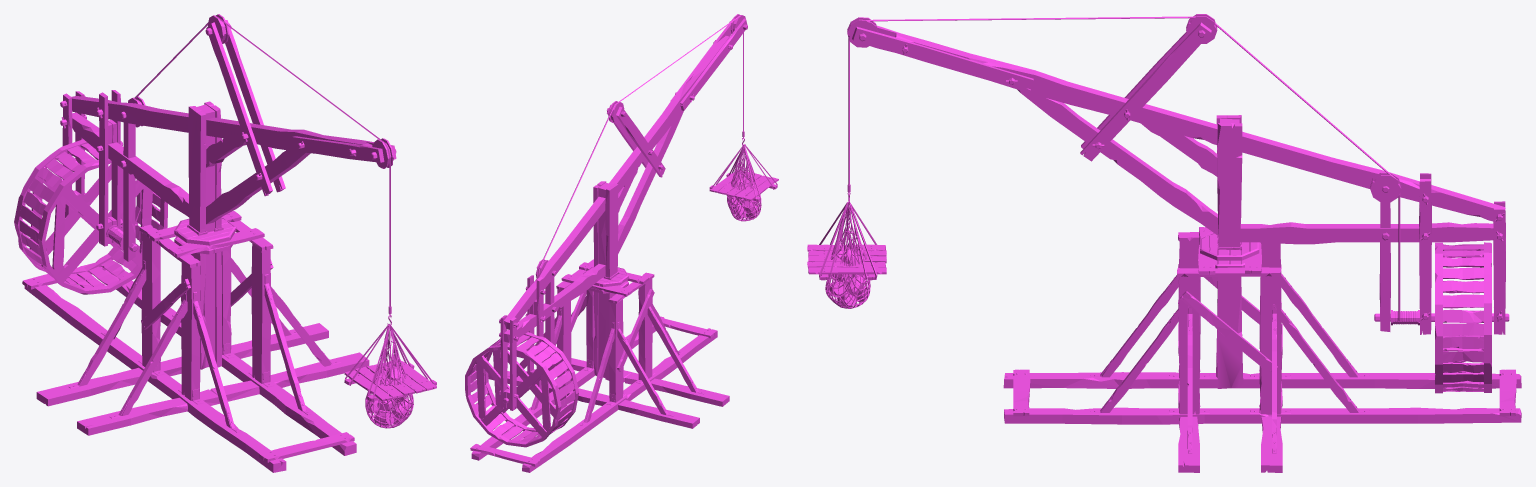
Rendered from SM_Crane_Big_Fantasy.fbx.
The picture shows the model from 3 angles, left to right: view 1: azimuth 30°, elevation 25°; view 2: azimuth 150°, elevation 25°; view 3: azimuth 270°, elevation 25°; orthographic projection. The views are drawn at different scales.
Visible parts, largest first — view 1: SM_Crane_Big_Fantasy_Base, SM_Crane_Big_Fantasy_Arm, SM_Crane_Big_Fantasy_Wheel_Big, SM_Crane_Big_Fantasy_Cargo, SM_Crane_Big_Fantasy_Nett, SM_Crane_Big_Fantasy_Rope; view 2: SM_Crane_Big_Fantasy_Arm, SM_Crane_Big_Fantasy_Base, SM_Crane_Big_Fantasy_Wheel_Big, SM_Crane_Big_Fantasy_Cargo, SM_Crane_Big_Fantasy_Nett, SM_Crane_Big_Fantasy_Rope; view 3: SM_Crane_Big_Fantasy_Arm, SM_Crane_Big_Fantasy_Base, SM_Crane_Big_Fantasy_Wheel_Big, SM_Crane_Big_Fantasy_Cargo, SM_Crane_Big_Fantasy_Nett, SM_Crane_Big_Fantasy_Rope.
Part boxes in pixels (x1,y1,x2,y2): SM_Crane_Big_Fantasy_Base: [22, 211, 369, 472]; SM_Crane_Big_Fantasy_Arm: [60, 14, 396, 369]; SM_Crane_Big_Fantasy_Wheel_Big: [14, 139, 167, 294]; SM_Crane_Big_Fantasy_Cargo: [344, 324, 436, 402]; SM_Crane_Big_Fantasy_Nett: [365, 326, 413, 428]; SM_Crane_Big_Fantasy_Rope: [134, 16, 390, 306]; SM_Crane_Big_Fantasy_Arm: [499, 14, 747, 410]; SM_Crane_Big_Fantasy_Base: [470, 259, 729, 472]; SM_Crane_Big_Fantasy_Wheel_Big: [465, 332, 578, 447]; SM_Crane_Big_Fantasy_Cargo: [709, 144, 778, 202]; SM_Crane_Big_Fantasy_Nett: [727, 146, 761, 221]; SM_Crane_Big_Fantasy_Rope: [538, 15, 743, 275]; SM_Crane_Big_Fantasy_Arm: [847, 14, 1505, 388]; SM_Crane_Big_Fantasy_Base: [1003, 227, 1521, 472]; SM_Crane_Big_Fantasy_Wheel_Big: [1374, 242, 1509, 393]; SM_Crane_Big_Fantasy_Cargo: [807, 201, 886, 280]; SM_Crane_Big_Fantasy_Nett: [825, 203, 870, 308]; SM_Crane_Big_Fantasy_Rope: [848, 16, 1400, 322].
Bounding box in the file's own units: 11.36 × 14.46 × 24.17.
